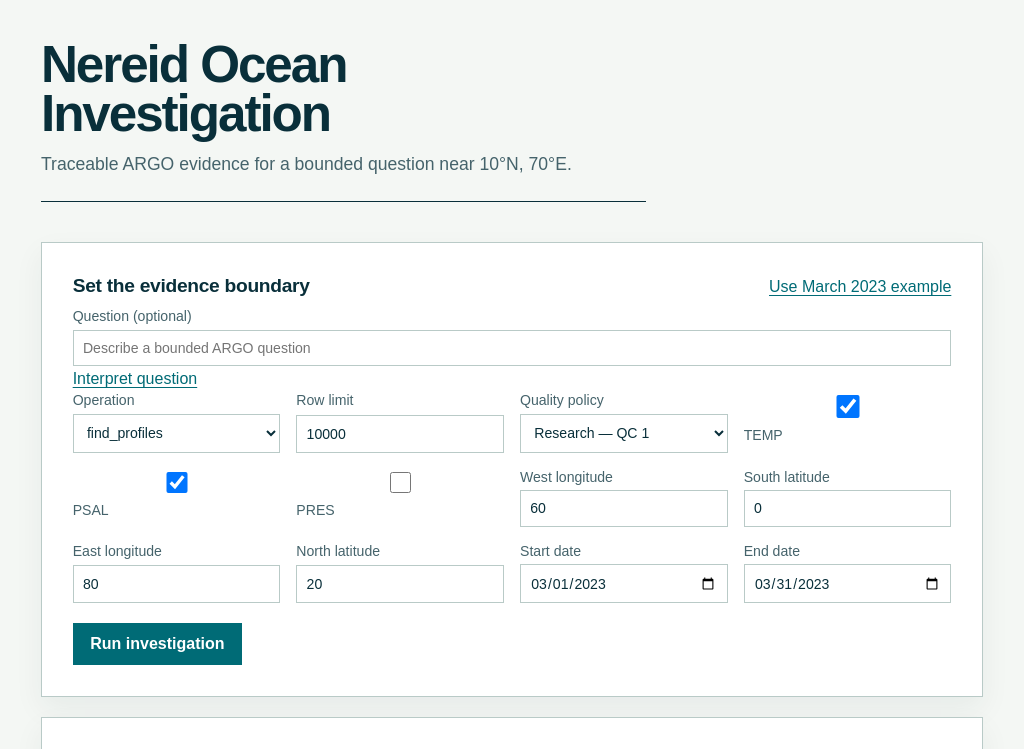
a plan edit aborts a pending execution and clears its loading state
Click the button "Run investigation" at {"x": 157, "y": 644}, box [73,623,242,665]
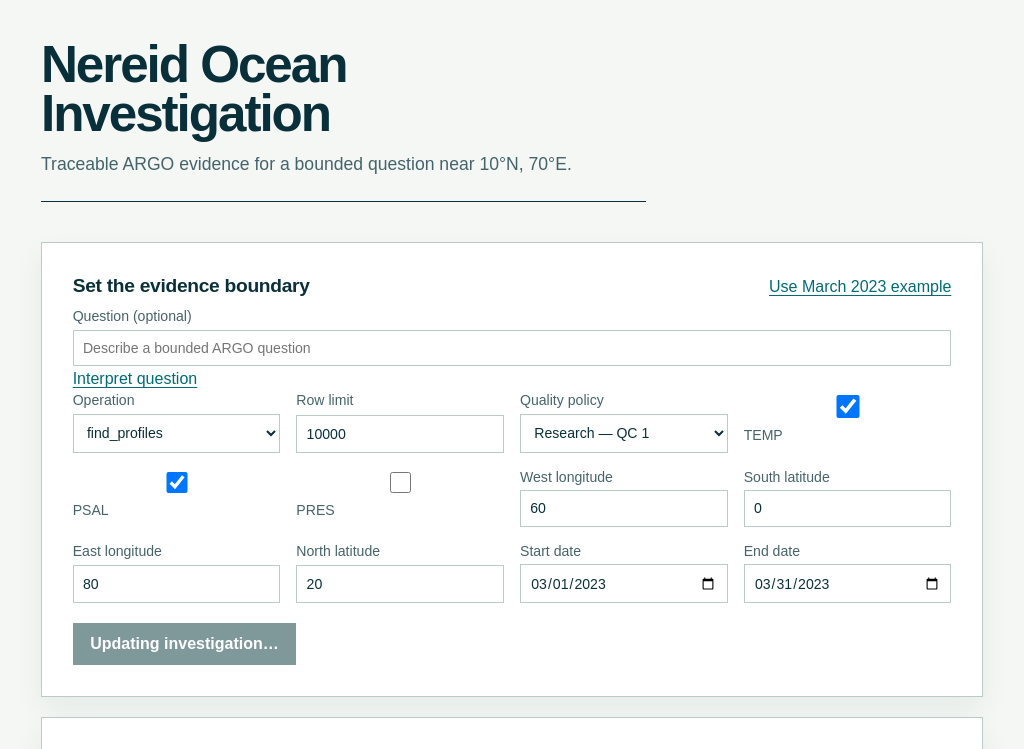
Replace the text in the number field labelled "Row limit" with "9" at {"x": 400, "y": 434}, box [296,415,504,452]
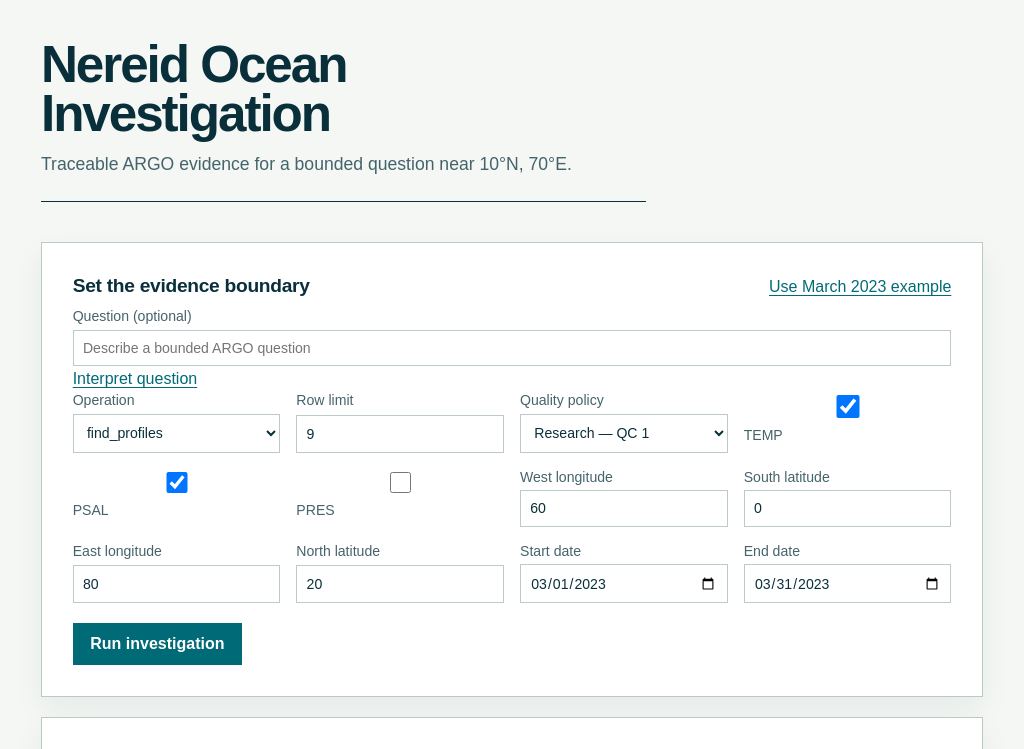
Check: the button "Run investigation" is shown, box [73,623,242,665]
